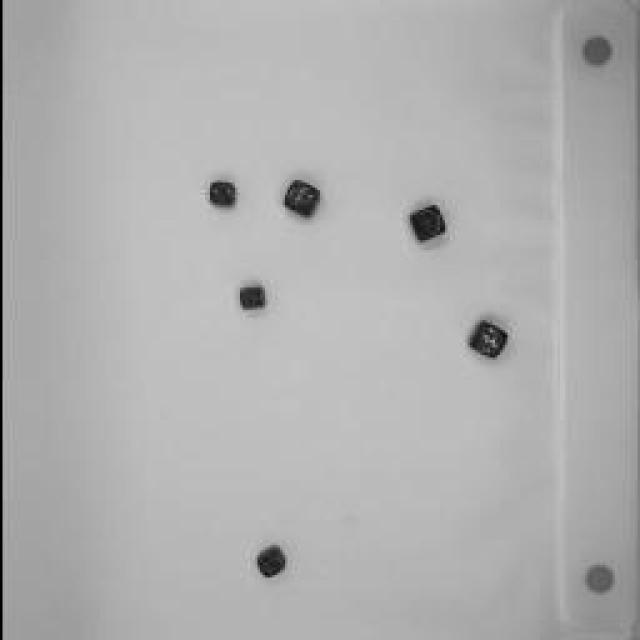dice_1: (402, 201, 448, 249), (250, 544, 288, 581)
dice_3: (235, 283, 265, 315)
dice_4: (202, 178, 238, 210)
dice_6: (461, 318, 509, 362), (278, 178, 322, 222)
